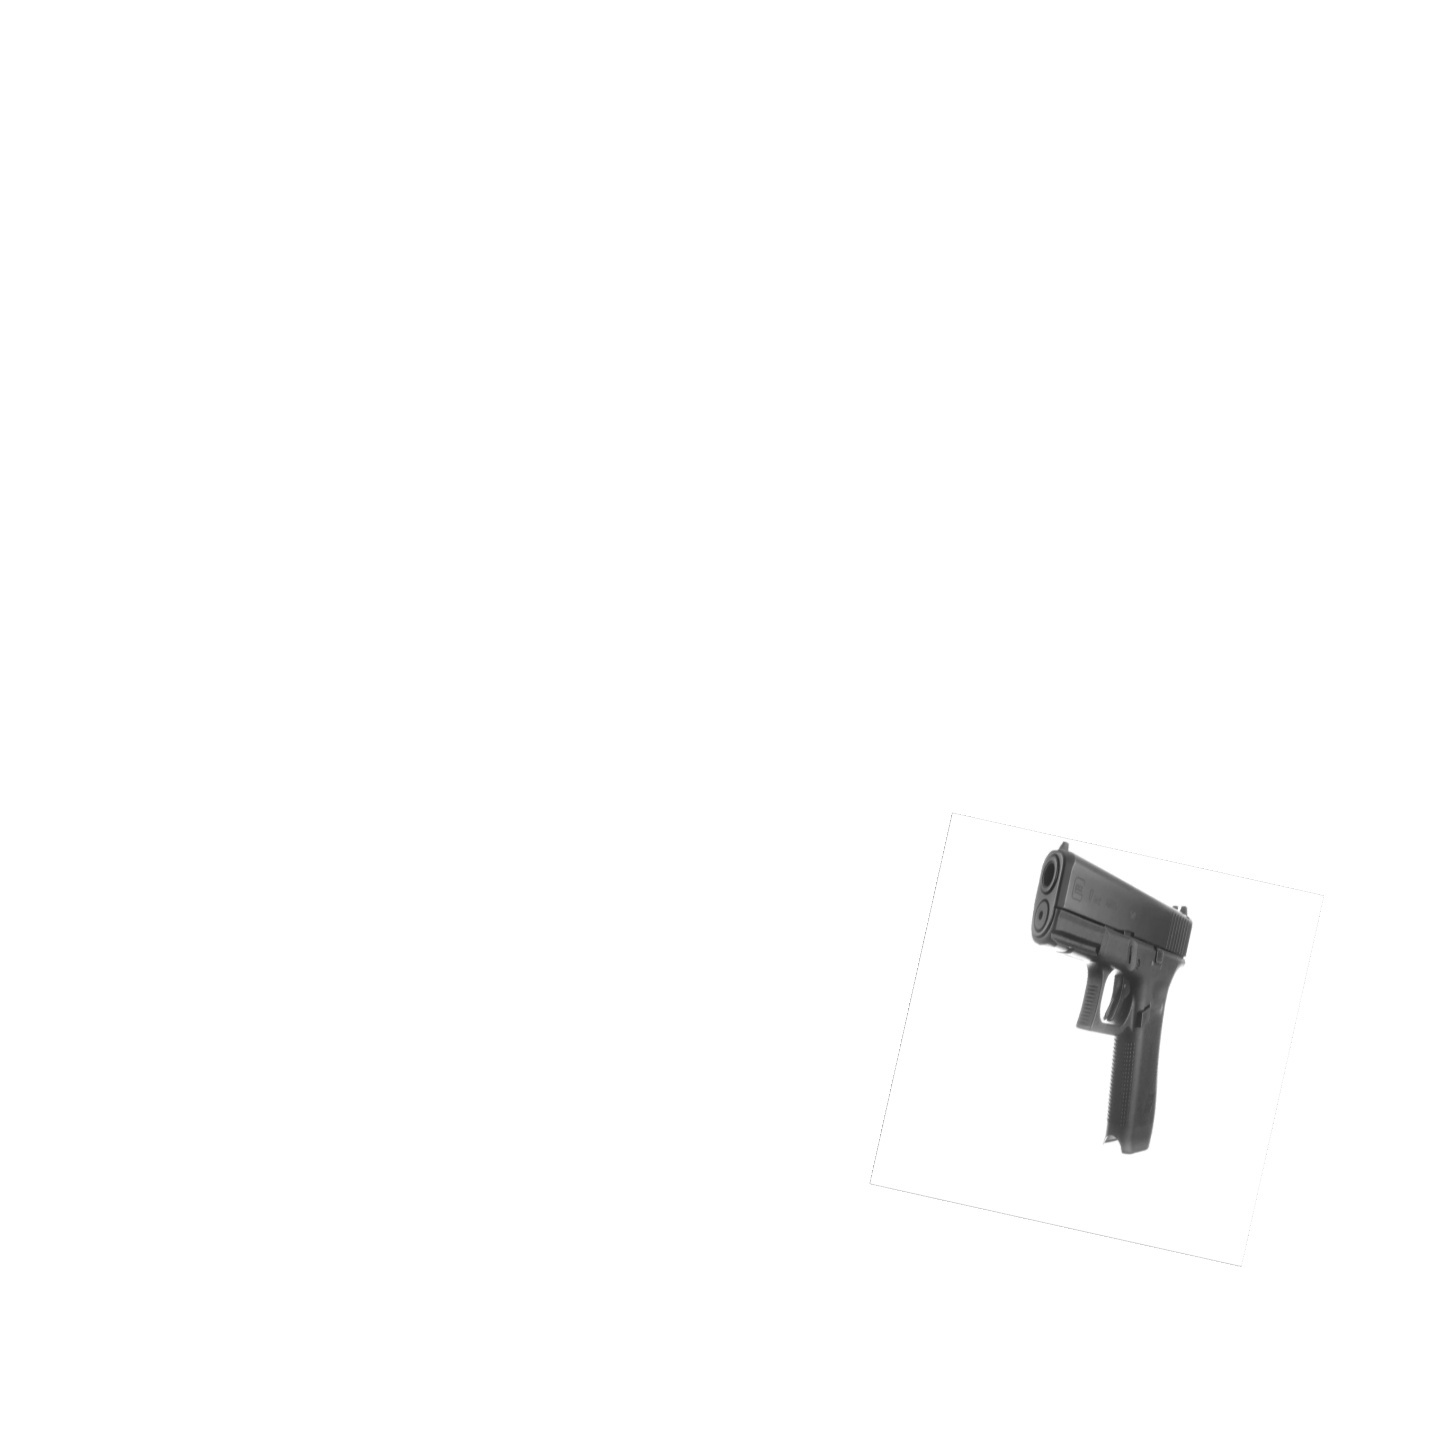gun: (1030, 830, 1200, 1161)
